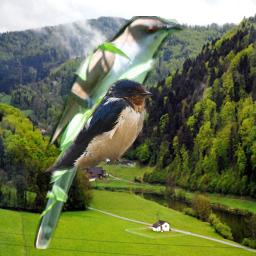Cuckoo: (34, 16, 186, 249)
Swallow: (45, 78, 154, 174)
